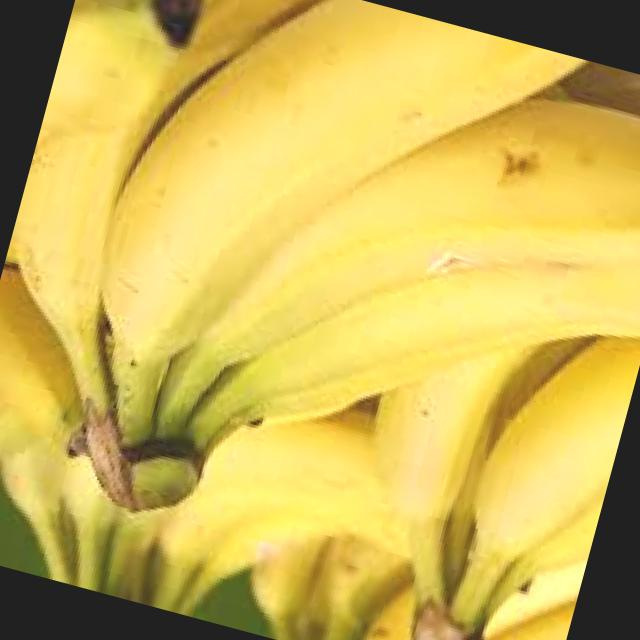Banana: (0, 0, 640, 627), (0, 320, 426, 640), (311, 280, 640, 640)
